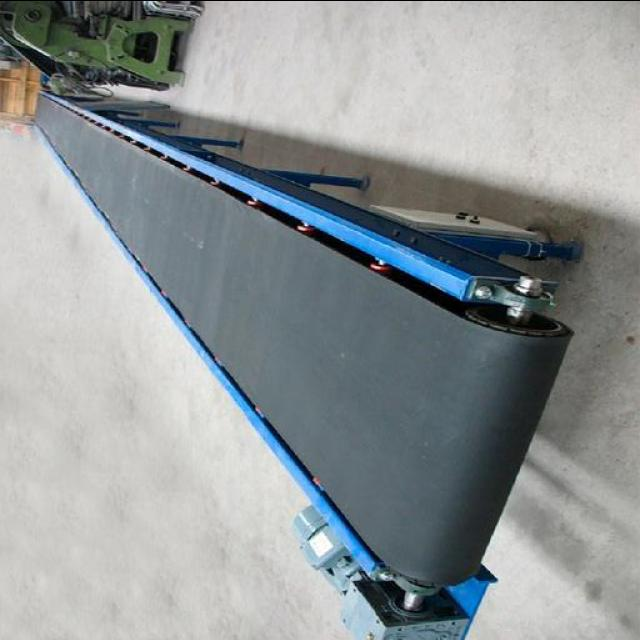conveyor: (27, 85, 570, 587)
